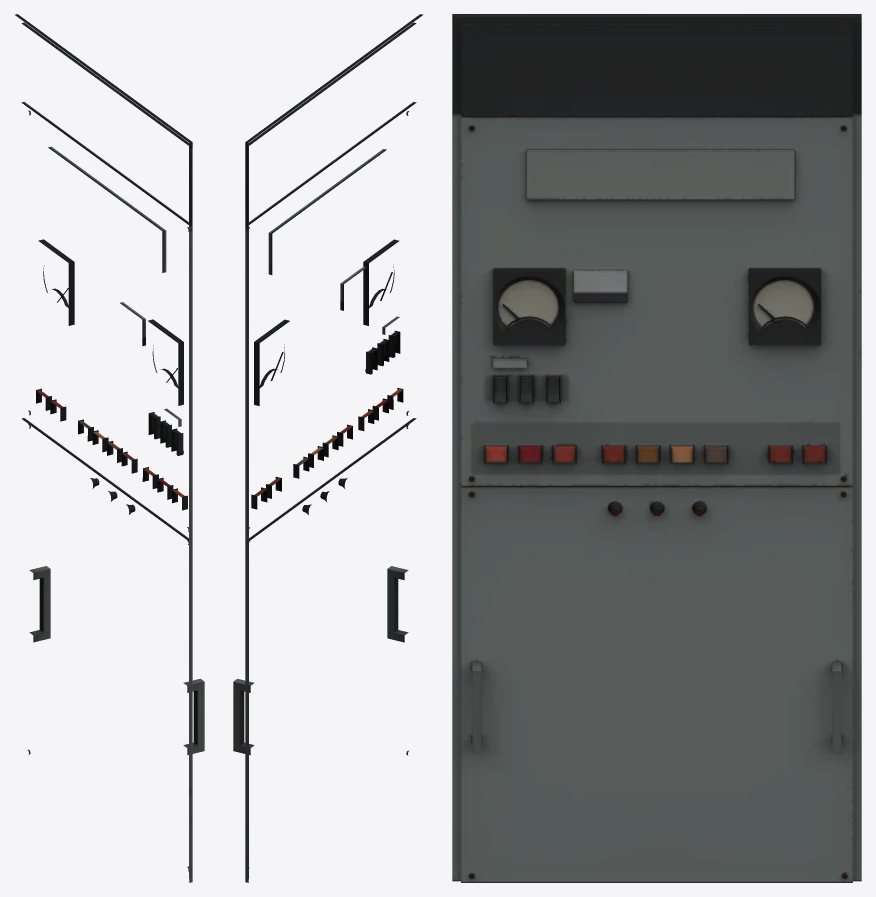
3 renders of one model, left to right at view 1: azimuth 30°, elevation 25°; view 2: azimuth 150°, elevation 25°; view 3: azimuth 270°, elevation 25°, orthographic. The views are drawn at different scales.
Visible parts, largest first — view 1: body0_model0_lod0_mesh0; view 2: body0_model0_lod0_mesh0; view 3: body0_model0_lod0_mesh0.
Part boxes in pixels (left/top/right/bottom): body0_model0_lod0_mesh0: left=14, top=14, right=204, bottom=882; body0_model0_lod0_mesh0: left=233, top=14, right=423, bottom=882; body0_model0_lod0_mesh0: left=452, top=14, right=861, bottom=882.
Size of the model in its own units: 3.76 by 112 by 47.99.
1 material, 1 textured.
